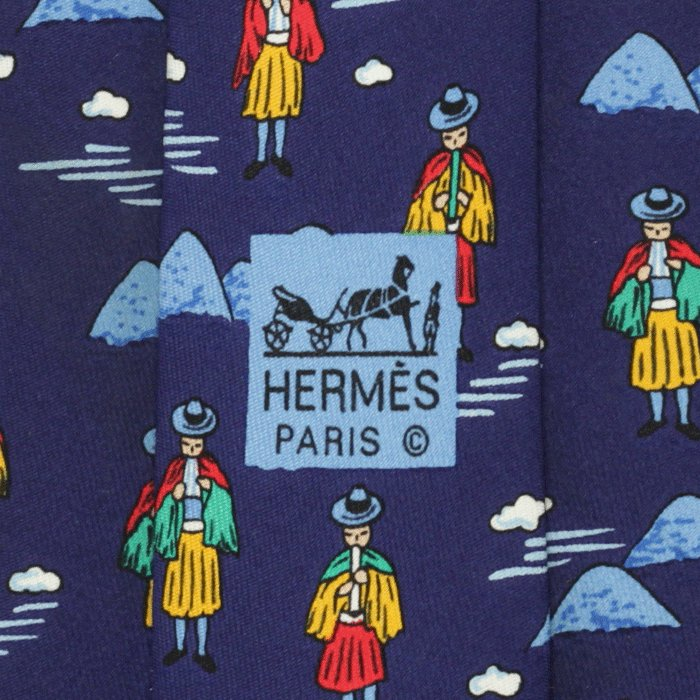HERMES: (255, 241, 453, 464)
